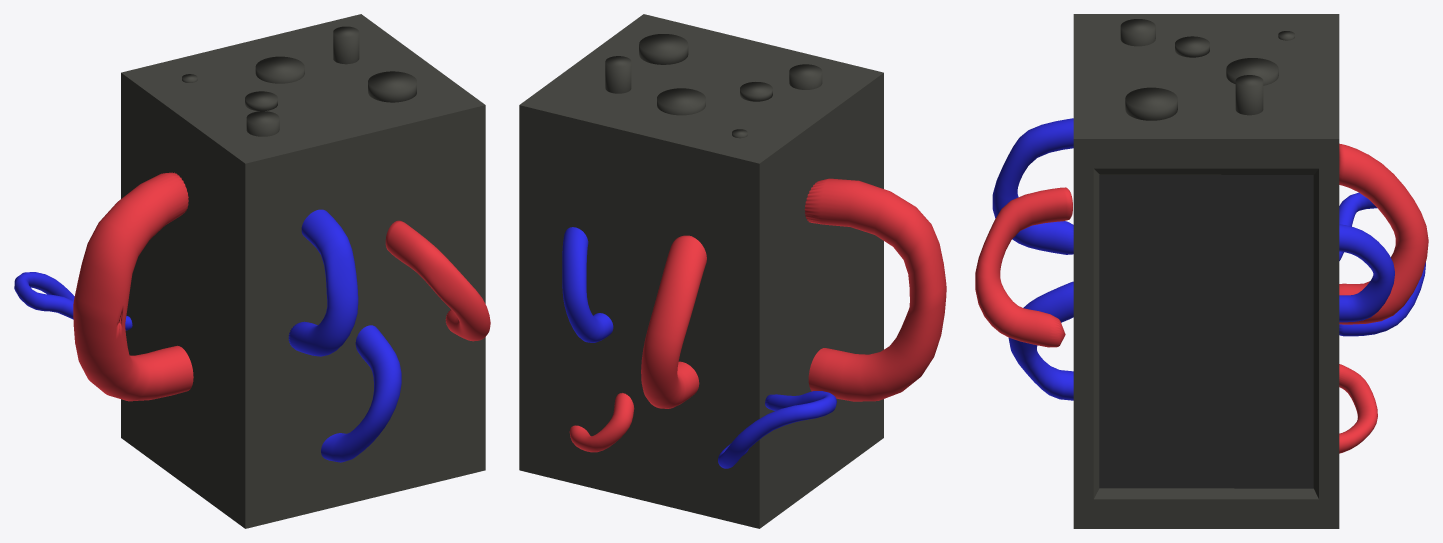
File: tileEmitter.glb
3 views of the same model, side by side, from view 1: azimuth 30°, elevation 25°; view 2: azimuth 150°, elevation 25°; view 3: azimuth 270°, elevation 25° (orthographic). The views are drawn at different scales.
Visible parts, largest first — view 1: Cube, Red Tubes, Blue Tubes; view 2: Cube, Red Tubes, Blue Tubes; view 3: Cube, Cube.002, Red Tubes, Blue Tubes.
Boxes of the visible parts, left/top/right/bottom form: Cube: left=121, top=14, right=485, bottom=528; Red Tubes: left=73, top=172, right=490, bottom=401; Blue Tubes: left=14, top=209, right=401, bottom=462; Cube: left=519, top=14, right=883, bottom=528; Red Tubes: left=569, top=178, right=946, bottom=452; Blue Tubes: left=562, top=227, right=836, bottom=468; Cube: left=1073, top=14, right=1339, bottom=528; Cube.002: left=1099, top=175, right=1313, bottom=488; Red Tubes: left=975, top=143, right=1428, bottom=453; Blue Tubes: left=992, top=118, right=1425, bottom=400.
Bounding box in the file's own units: 5.83 × 6.18 × 6.07.
